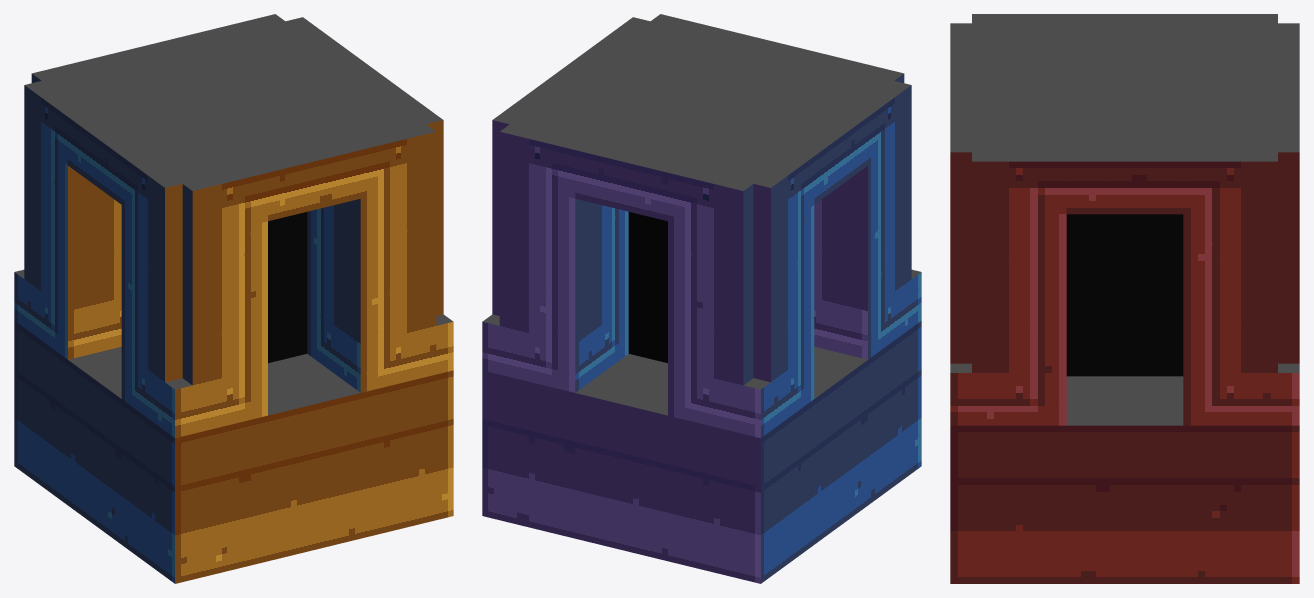
File: indust_core_colorsao.fezao.glb
The picture shows the model from 3 angles, left to right: view 1: azimuth 30°, elevation 25°; view 2: azimuth 150°, elevation 25°; view 3: azimuth 270°, elevation 25°; orthographic projection. The views are drawn at different scales.
Visible parts, largest first — view 1: INDUST_CORE_COLORSAO; view 2: INDUST_CORE_COLORSAO; view 3: INDUST_CORE_COLORSAO.
Boxes of the visible parts, x1,y1,x2,y2 form: INDUST_CORE_COLORSAO: [14, 14, 453, 583]; INDUST_CORE_COLORSAO: [482, 14, 921, 583]; INDUST_CORE_COLORSAO: [950, 14, 1299, 583].
Bounding box in the file's own units: 3 × 4 × 3.
1 material, 1 textured.
